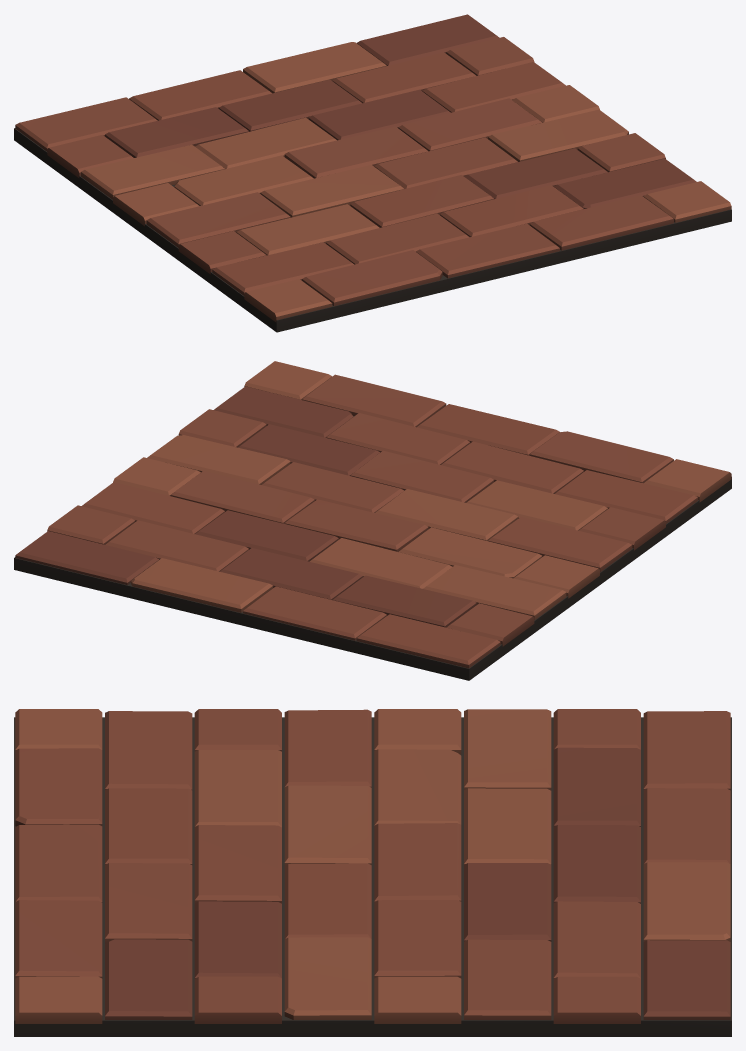
The model's file is floor_bricks_large_D.glb.
The picture shows the model from 3 angles, top to bottom: view 1: azimuth 30°, elevation 25°; view 2: azimuth 150°, elevation 25°; view 3: azimuth 270°, elevation 25°; orthographic projection. The views are drawn at different scales.
Parts seen in each view (by area): view 1: Item; view 2: Item; view 3: Item.
Part boxes in pixels (x1,y1,x2,y2): Item: [14, 14, 731, 332]; Item: [14, 361, 731, 680]; Item: [14, 709, 731, 1036].
Size of the model in its own units: 4 by 0.1628 by 4.
Materials: 1 (1 with a texture image).
